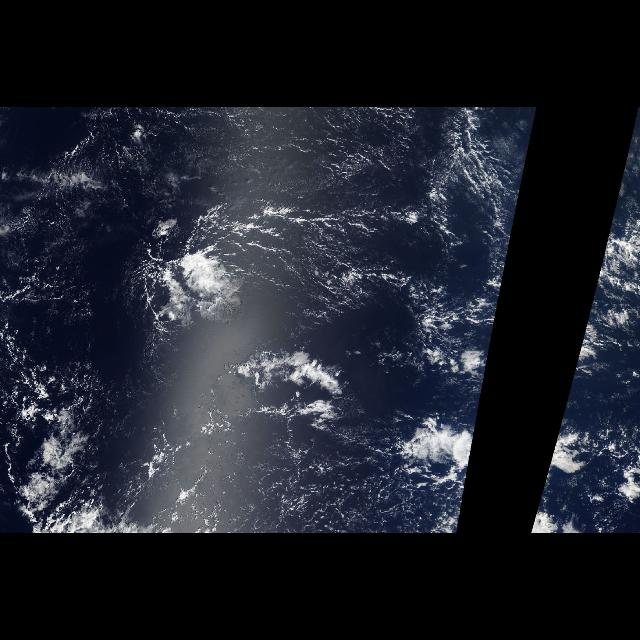Gravel: (242, 108, 494, 330), (120, 407, 452, 533)
Sugar: (1, 107, 510, 483), (150, 420, 402, 524)
